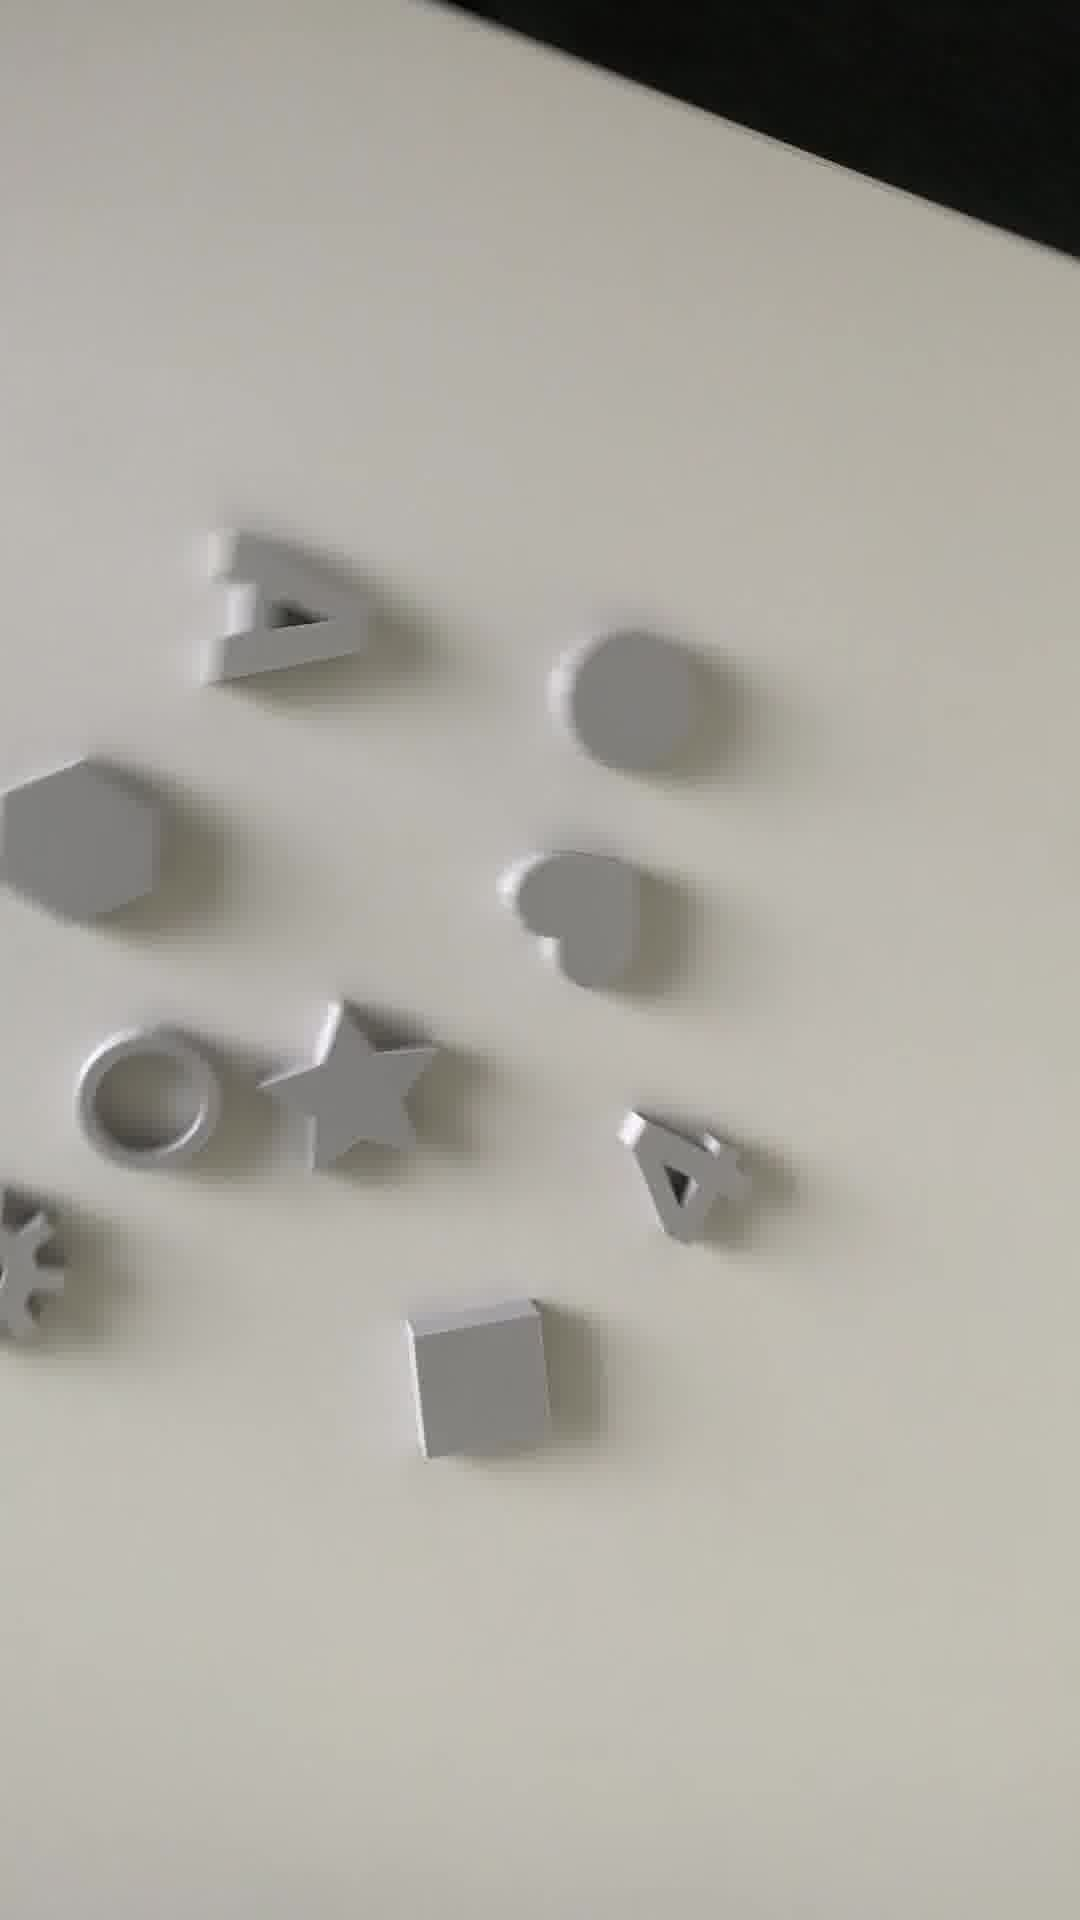Gray A-letter: (190, 542, 382, 688)
Gray circle: (535, 632, 727, 781)
Gray four: (616, 1101, 742, 1247)
Gray gear: (1, 1204, 79, 1357)
Gray heart: (500, 848, 649, 989)
Gray hexagon: (1, 767, 182, 932)
Gray ring: (76, 1010, 218, 1182)
Gray square: (397, 1295, 558, 1472)
Gray star: (255, 1000, 435, 1179)
